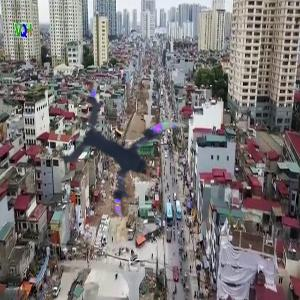drone: (61, 91, 193, 223)
